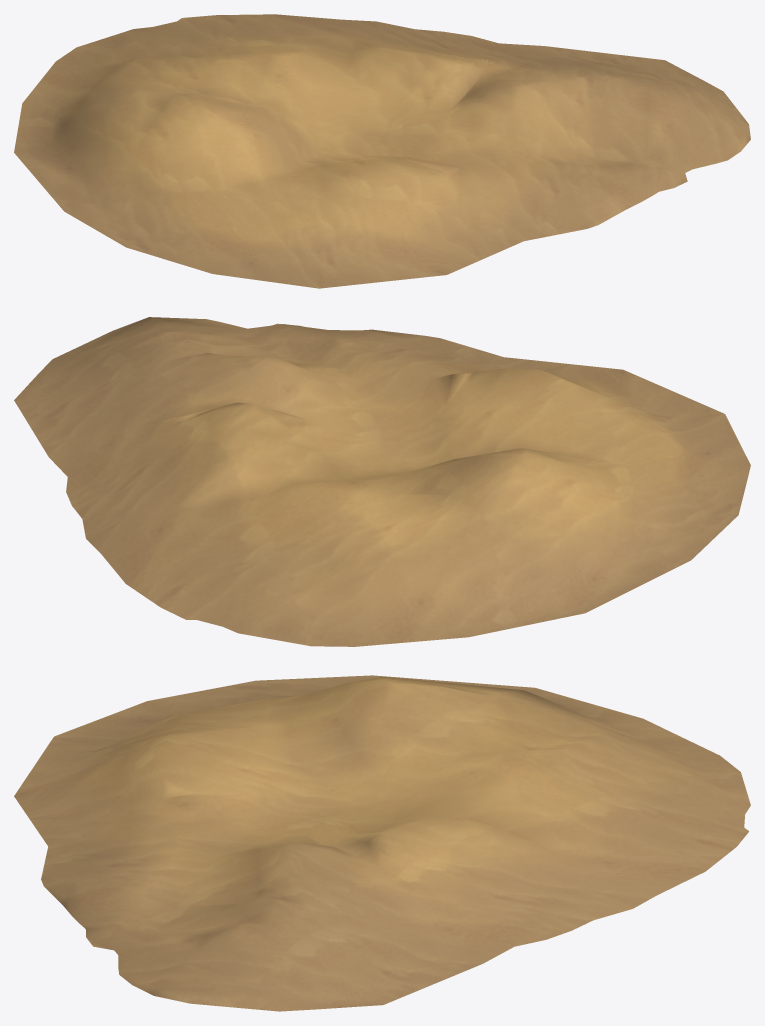
Rendered from Area_14_4.fbx.
3 views of the same model, one above another, from view 1: azimuth 30°, elevation 25°; view 2: azimuth 150°, elevation 25°; view 3: azimuth 270°, elevation 25° (orthographic). The views are drawn at different scales.
Visible parts, largest first — view 1: Area_14_4; view 2: Area_14_4; view 3: Area_14_4.
Part boxes in pixels (bbox=[...]): Area_14_4: bbox=[14, 14, 750, 288]; Area_14_4: bbox=[14, 317, 750, 646]; Area_14_4: bbox=[14, 675, 750, 1011].
Bounding box in the file's own units: 5761 × 574 × 5337.
1 material, 1 textured.
